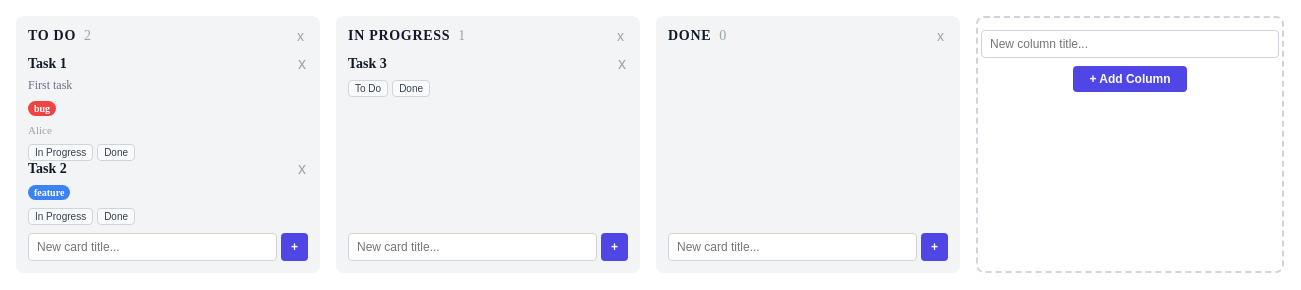
Test: KanbanBoard › removes a card when remove button is clicked
The width and height of the screenshot is (1301, 290).
Expected: the heading "Task 1" is shown, [28,56,67,72]
Click the button named "Remove card". click: (302,64)
box: [296,56,308,72]
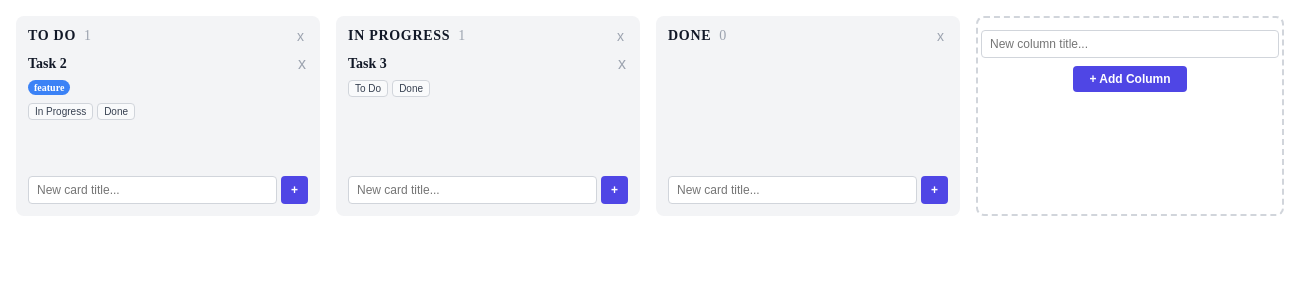
Now the heading "Task 1" is gone
